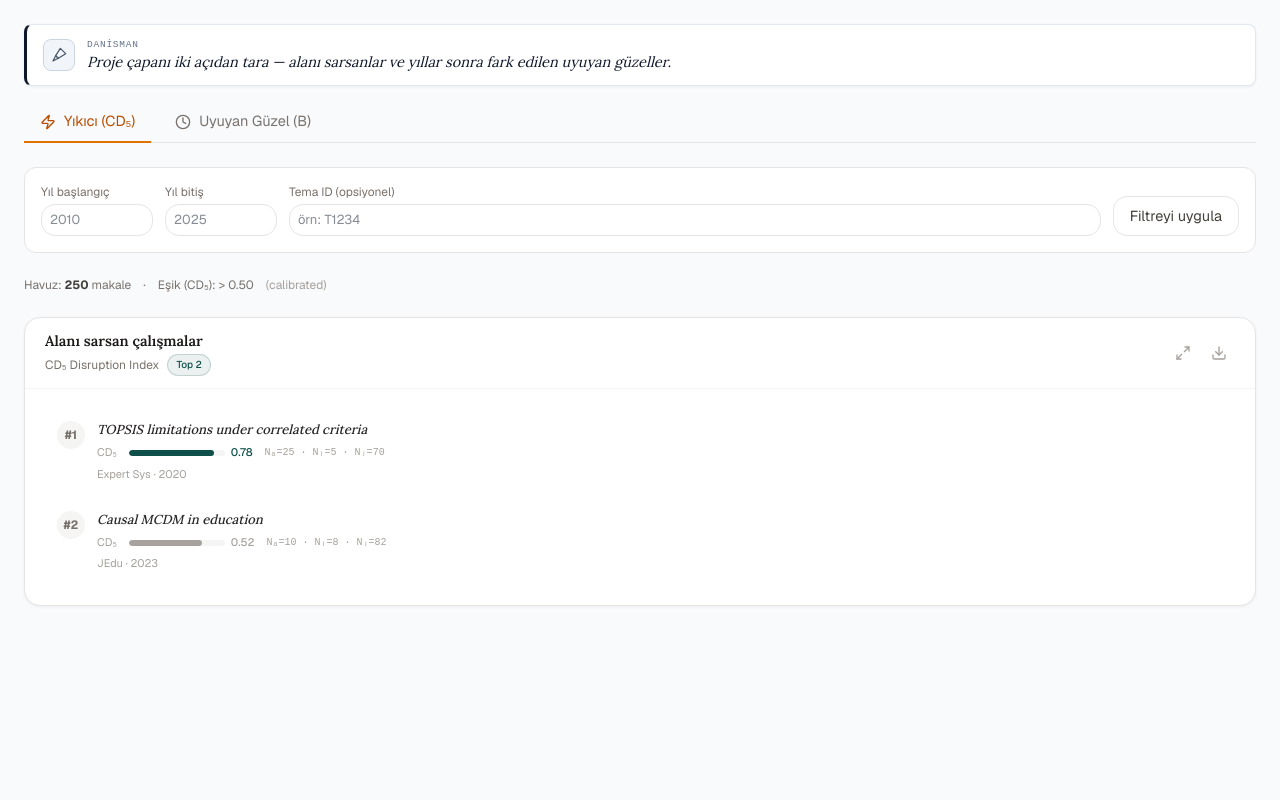
Test: OriginalityPage › Uyuyan Güzel tab → type=sleeping_beauty fetch + B kolonu
Check: the text "TOPSIS limitations under correlated criteria" is shown, box x1=97 y1=421 x2=367 y2=438
Click the button "Uyuyan Güzel (B)". click: (243, 123)
box: x1=159 y1=102 x2=327 y2=143
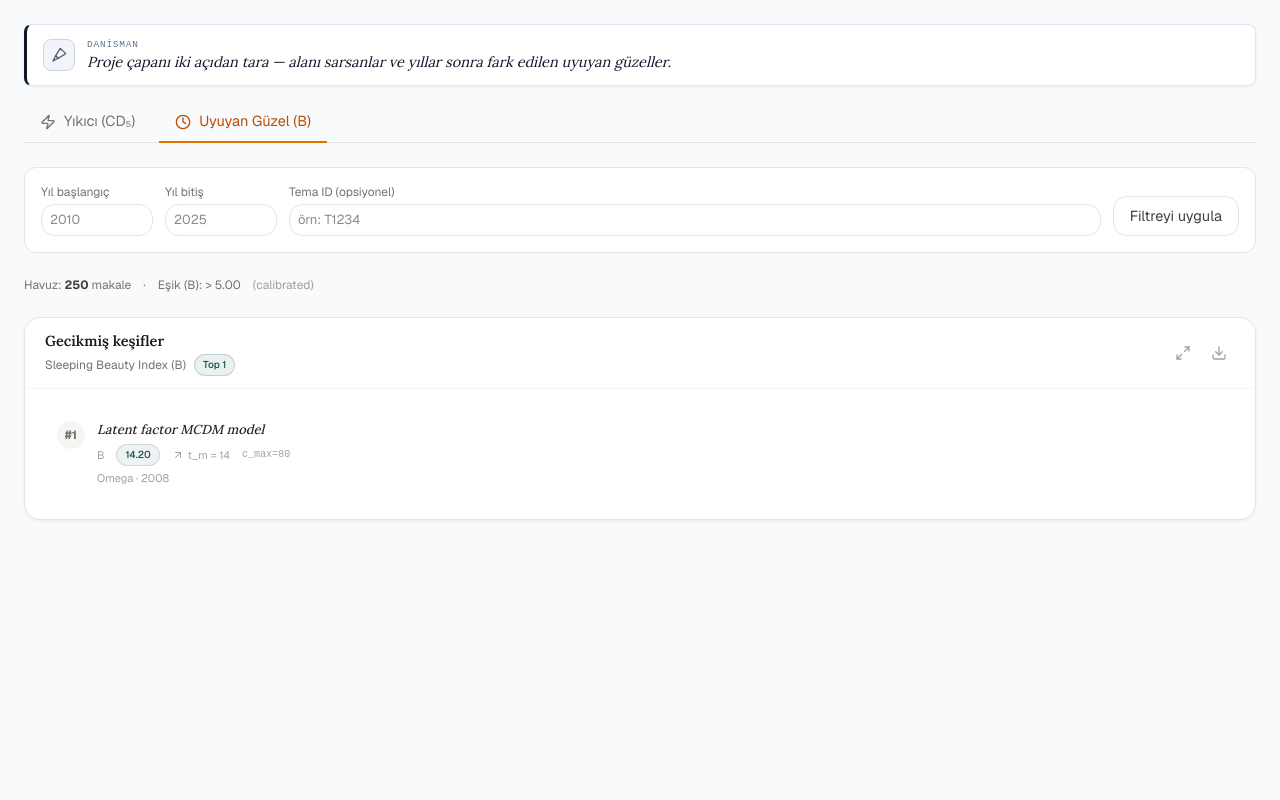
Check: the text "Latent factor MCDM model" is shown, box x1=97 y1=421 x2=264 y2=438
Check: the text "14.20" is shown, box x1=116 y1=444 x2=160 y2=466
